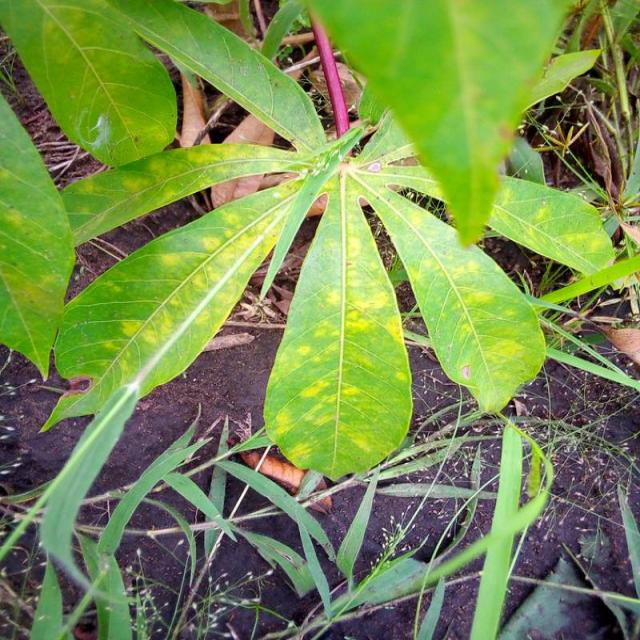cassava leaf: (3, 1, 615, 482), (305, 0, 578, 246), (262, 169, 414, 481), (362, 176, 547, 415), (0, 0, 178, 169), (0, 89, 75, 382)
